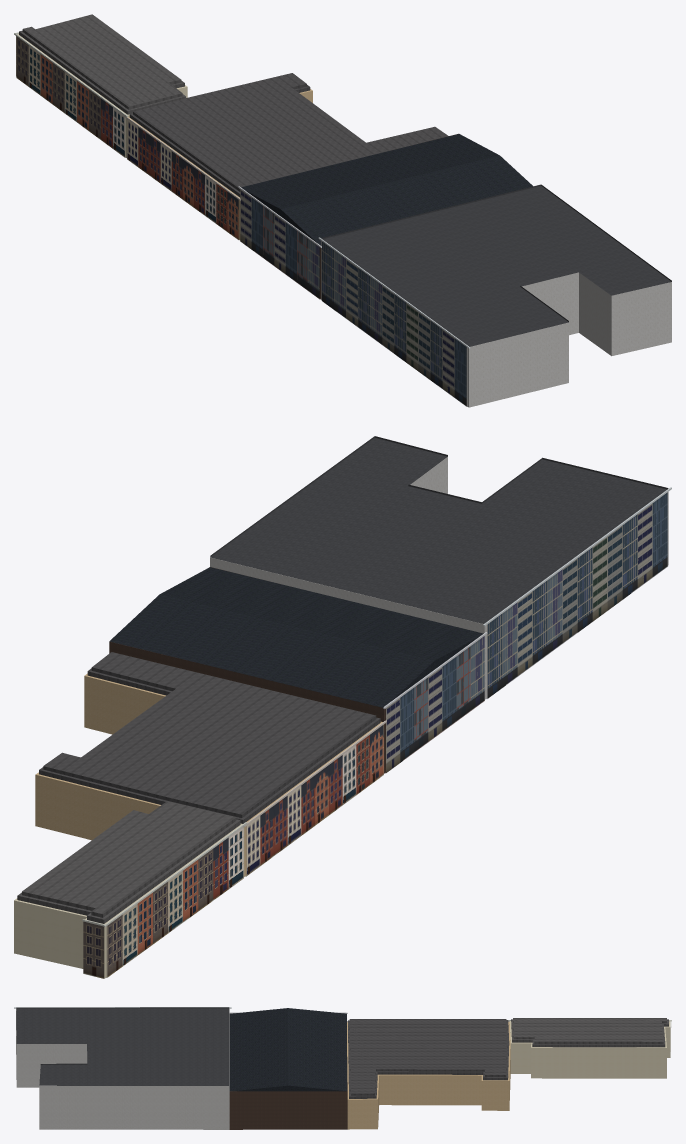
3 views of the same model, one above another, from view 1: azimuth 30°, elevation 25°; view 2: azimuth 150°, elevation 25°; view 3: azimuth 270°, elevation 25° (orthographic). The views are drawn at different scales.
Parts seen in each view (by area): view 1: bldg_42681947_roof, bldg_494867858_roof_b, bldg_494867857_roof, bldg_42681947, bldg_42681947_facade0, bldg_494867859_roof_b, bldg_494867859_facade0, bldg_494867858_facade0, bldg_494867857_facade1, bldg_494867859_roof_a, bldg_494867858_roof_a; view 2: bldg_42681947_roof, bldg_494867857_roof, bldg_494867858_roof_b, bldg_42681947_facade0, bldg_494867859_roof_b, bldg_494867858, bldg_494867859_facade0, bldg_494867858_facade0, bldg_494867857_facade1, bldg_494867859, bldg_42681947, bldg_494867857 (+3 smaller); view 3: bldg_42681947_roof, bldg_42681947, bldg_494867857_roof, bldg_494867858_roof_b, bldg_494867858, bldg_494867859, bldg_494867857, bldg_494867859_roof_b, bldg_494867858_roof_a, bldg_494867859_roof_a, bldg_42681947_facade0.
Part boxes in pixels (x1,y1,x2,y2): bldg_42681947_roof: (321,184,671,346); bldg_494867858_roof_b: (133,73,448,191); bldg_494867857_roof: (241,134,532,245); bldg_42681947: (321,241,671,407); bldg_42681947_facade0: (318,237,470,406); bldg_494867859_roof_b: (22,14,182,109); bldg_494867859_facade0: (14,33,127,157); bldg_494867858_facade0: (124,116,240,239); bldg_494867857_facade1: (238,186,321,299); bldg_494867859_roof_a: (19,30,185,114); bldg_494867858_roof_a: (129,85,310,197); bldg_42681947_roof: (210,436,668,623); bldg_494867857_roof: (109,567,483,707); bldg_494867858_roof_b: (43,652,376,817); bldg_42681947_facade0: (483,487,671,698); bldg_494867859_roof_b: (22,801,236,917); bldg_494867858: (35,673,383,876); bldg_494867859_facade0: (103,822,247,977); bldg_494867858_facade0: (243,720,386,876); bldg_494867857_facade1: (383,632,487,773); bldg_494867859: (14,823,244,978); bldg_42681947: (210,457,668,699); bldg_494867857: (109,567,385,773); bldg_42681947_roof: (16,1007,229,1085); bldg_42681947: (16,1008,229,1129); bldg_494867857_roof: (229,1008,347,1091); bldg_494867858_roof_b: (349,1019,507,1095); bldg_494867858: (347,1022,510,1129); bldg_494867859: (509,1021,670,1078); bldg_494867857: (229,1082,347,1129); bldg_494867859_roof_b: (513,1018,666,1043); bldg_494867858_roof_a: (348,1020,509,1098); bldg_494867859_roof_a: (511,1019,668,1047); bldg_42681947_facade0: (14,1007,231,1008).
Size of the model in its own units: 70.79 by 18.82 by 251.
17 materials, 9 textured.
